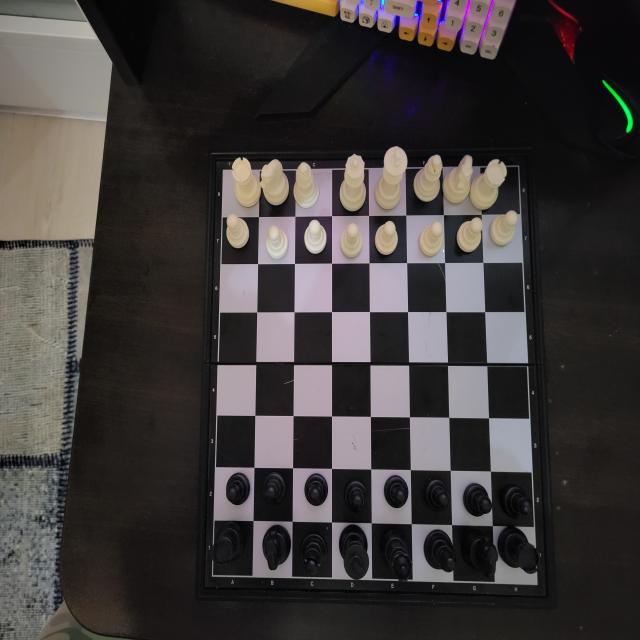black-bishop: (422, 527, 458, 577), (297, 528, 331, 578)
black-king: (337, 523, 372, 582)
black-knight: (460, 530, 499, 581), (260, 523, 292, 572)
black-pawn: (498, 483, 536, 521), (422, 475, 452, 515), (223, 470, 251, 511), (341, 477, 369, 517), (463, 481, 492, 518), (260, 470, 287, 508), (383, 473, 410, 510), (304, 472, 329, 511)
black-queen: (377, 524, 418, 590)
black-rook: (497, 525, 542, 578), (208, 520, 248, 568)
chess-board: (202, 153, 554, 609)
white-bishop: (411, 154, 444, 204), (292, 161, 321, 209)
white-king: (374, 144, 408, 213)
white-knight: (443, 154, 473, 204), (260, 159, 290, 207)
white-pawn: (488, 208, 520, 248), (456, 217, 484, 256), (418, 220, 444, 261), (374, 219, 399, 260), (264, 223, 290, 262), (303, 217, 328, 257), (338, 222, 364, 260), (224, 213, 250, 250)
white-queen: (338, 153, 367, 215)
white-rook: (473, 157, 507, 211), (232, 156, 260, 208)
